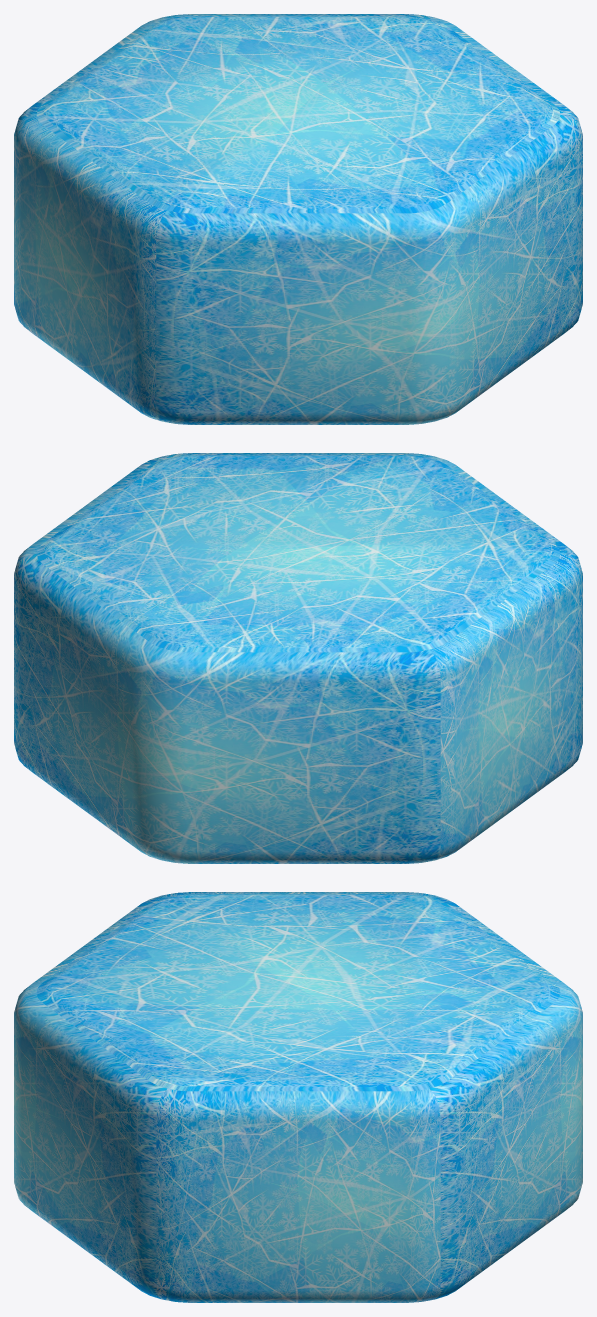
Rendered from shelf2 (1).fbx.
3 renders of one model, top to bottom at view 1: azimuth 30°, elevation 25°; view 2: azimuth 150°, elevation 25°; view 3: azimuth 270°, elevation 25°, orthographic.
Parts seen in each view (by area): view 1: Cylinder.037; view 2: Cylinder.037; view 3: Cylinder.037.
Boxes of the visible parts, box(x1,y1,x2,y2) form: Cylinder.037: box(14, 14, 582, 424); Cylinder.037: box(14, 453, 582, 863); Cylinder.037: box(14, 892, 582, 1302).
Size of the model in its own units: 174 by 80.57 by 194.
1 material, 1 textured.
